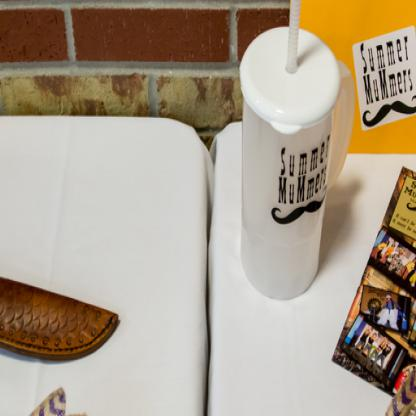knife: (0, 262, 122, 361)
